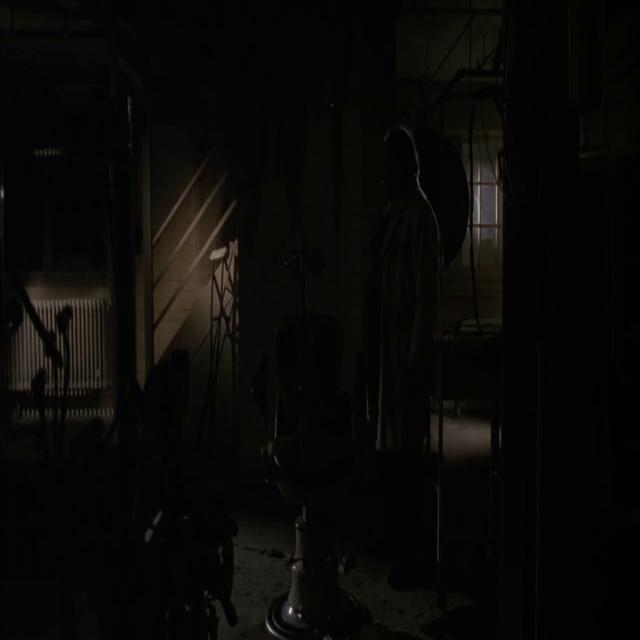People: (369, 112, 447, 531)
Table: (455, 250, 639, 640)
chair: (251, 285, 356, 512)
